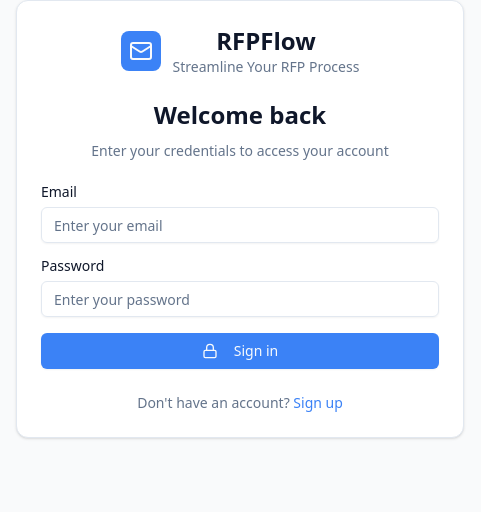
LoginForm › should show validation errors for empty fields
This screenshot has width=481, height=512.
Click the button "Sign in" at [240, 351], box [41, 333, 439, 369]
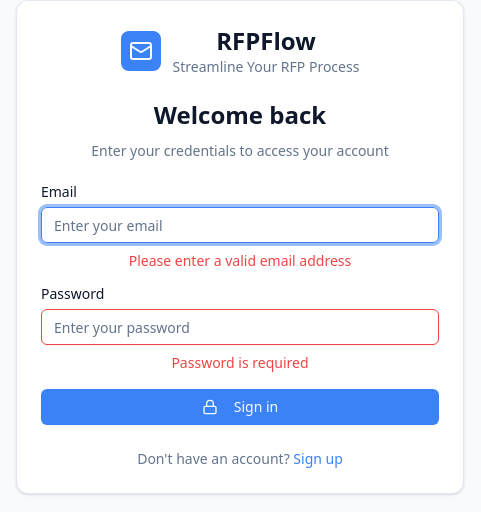
Check: the text "Please enter a valid email address" is shown, box [129, 251, 351, 270]
Check: the text "Password is required" is shown, box [171, 353, 309, 372]
